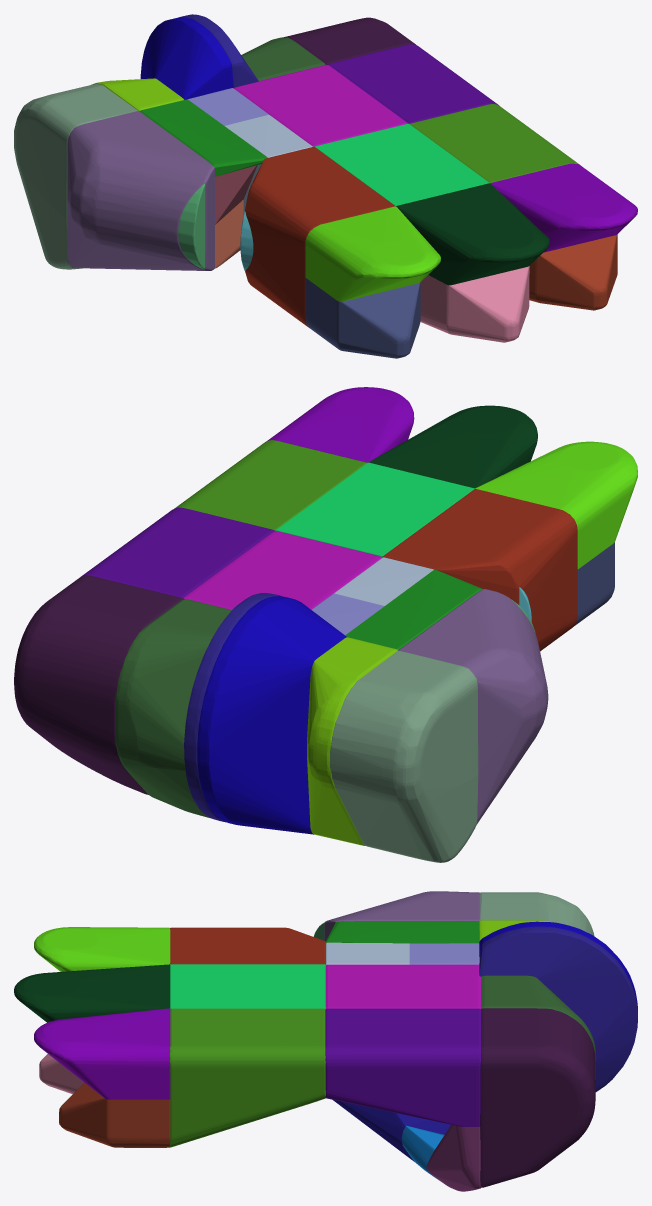
File: palm_split.obj
The picture shows the model from 3 angles, top to bottom: view 1: azimuth 30°, elevation 25°; view 2: azimuth 150°, elevation 25°; view 3: azimuth 270°, elevation 25°; orthographic projection. The views are drawn at different scales.
Visible parts, largest first — view 1: geometry_1, geometry_15, geometry_25, geometry_0, geometry_17, geometry_23, geometry_22, geometry_32, geometry_27, geometry_30, geometry_16, geometry_24 (+13 smaller); view 2: geometry_0, geometry_5, geometry_26, geometry_15, geometry_1, geometry_19, geometry_23, geometry_17, geometry_27, geometry_30, geometry_25, geometry_22 (+7 smaller); view 3: geometry_30, geometry_26, geometry_27, geometry_18, geometry_32, geometry_23, geometry_22, geometry_25, geometry_15, geometry_17, geometry_31, geometry_8 (+11 smaller).
Boxes of the visible parts, x1,y1,x2,y2 form: geometry_1: [67, 111, 214, 270]; geometry_15: [245, 147, 395, 327]; geometry_25: [396, 183, 549, 285]; geometry_0: [14, 84, 137, 269]; geometry_17: [305, 206, 440, 301]; geometry_23: [314, 123, 489, 205]; geometry_22: [233, 65, 407, 146]; geometry_32: [490, 163, 637, 252]; geometry_27: [328, 44, 499, 123]; geometry_30: [409, 104, 580, 182]; geometry_16: [305, 278, 420, 358]; geometry_24: [420, 266, 529, 342]; geometry_0: [330, 651, 478, 862]; geometry_5: [197, 596, 346, 834]; geometry_26: [14, 575, 183, 794]; geometry_15: [382, 489, 577, 651]; geometry_1: [398, 589, 548, 823]; geometry_19: [115, 599, 231, 818]; geometry_23: [275, 462, 474, 556]; geometry_17: [475, 441, 637, 568]; geometry_27: [80, 507, 274, 598]; geometry_30: [174, 440, 366, 530]; geometry_25: [368, 405, 537, 488]; geometry_22: [183, 531, 382, 609]; geometry_30: [170, 1008, 325, 1147]; geometry_26: [480, 1008, 595, 1187]; geometry_27: [325, 1008, 481, 1126]; geometry_18: [479, 926, 637, 1091]; geometry_32: [34, 1008, 170, 1099]; geometry_23: [170, 964, 325, 1008]; geometry_22: [325, 964, 480, 1008]; geometry_25: [14, 964, 170, 1022]; geometry_15: [170, 927, 325, 964]; geometry_17: [34, 927, 170, 971]; geometry_31: [59, 1082, 170, 1147]; geometry_8: [326, 921, 479, 943].
Bounding box in the file's own units: 84.83 × 45.38 × 126.
